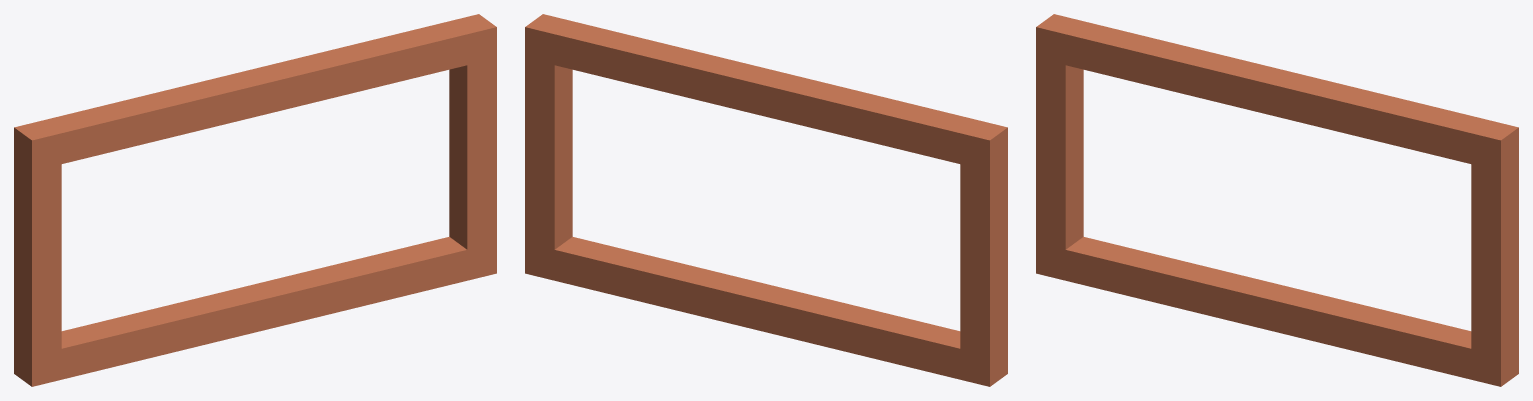
The model's file is window-brown-wide.obj.
3 views of the same model, side by side, from view 1: azimuth 30°, elevation 25°; view 2: azimuth 150°, elevation 25°; view 3: azimuth 330°, elevation 25° (orthographic).
Size of the model in its own units: 0.75 by 0.38 by 0.05.
